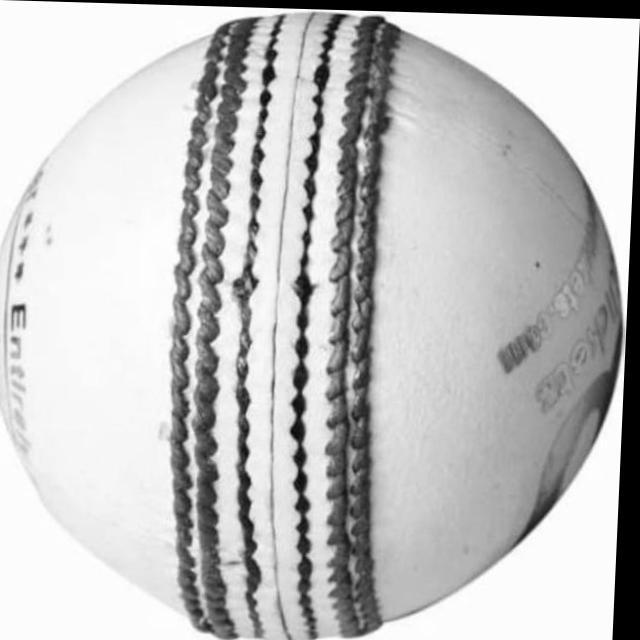cricket ball: (0, 9, 627, 640)
